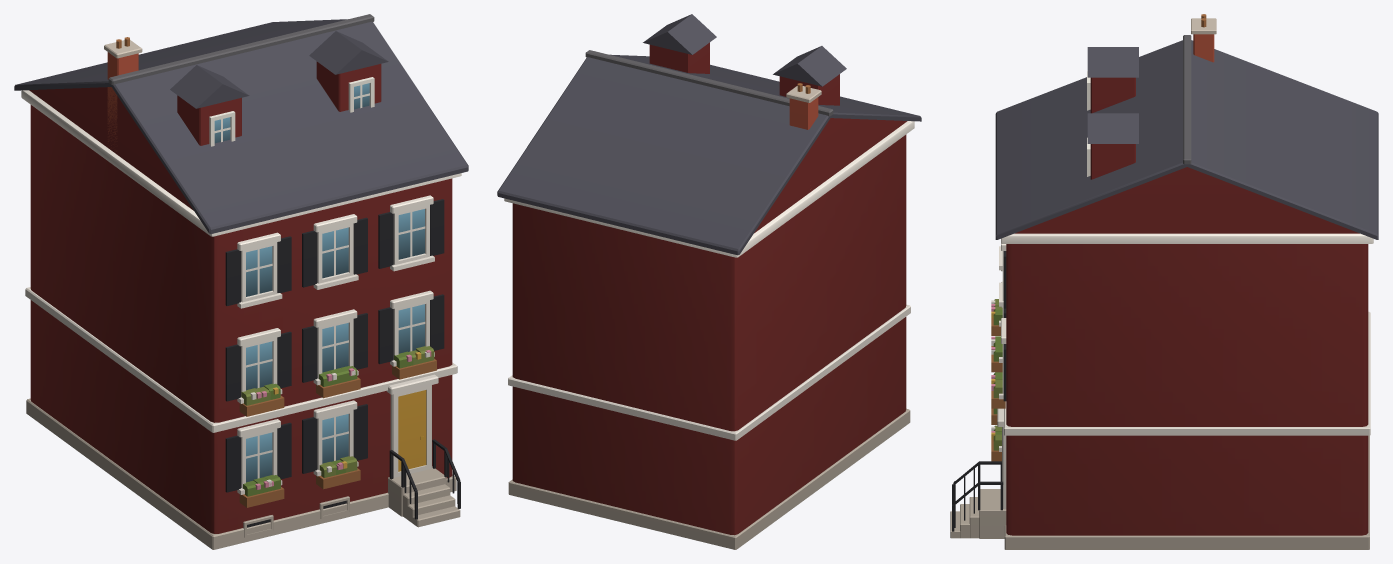
The model's file is lane_e6.glb.
The picture shows the model from 3 angles, left to right: view 1: azimuth 30°, elevation 25°; view 2: azimuth 150°, elevation 25°; view 3: azimuth 270°, elevation 25°; orthographic projection. The views are drawn at different scales.
Visible parts, largest first — view 1: lane_e6; view 2: lane_e6; view 3: lane_e6.
Boxes of the visible parts, x1=… form: lane_e6: x1=14, y1=14, x2=468, y2=549; lane_e6: x1=497, y1=14, x2=921, y2=549; lane_e6: x1=950, y1=14, x2=1378, y2=549.
Bounding box in the file's own units: 9.8 × 15.45 × 14.21.
Materials: 1 (1 with a texture image).
